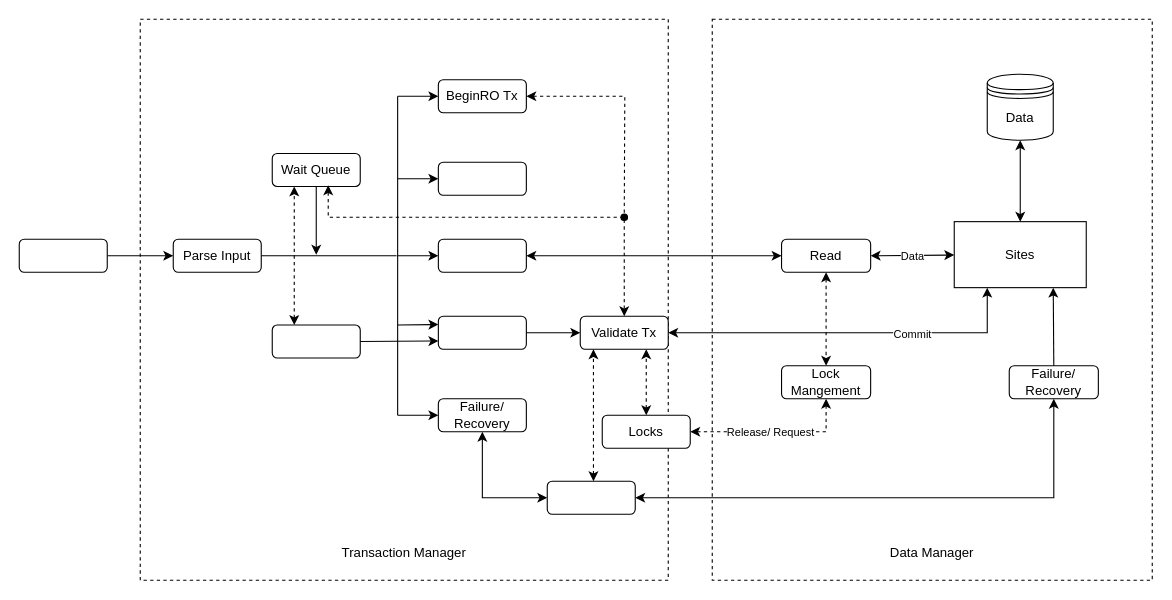
Some shapes in this 1172 by 600 pixel diagram are drawn without their labels. Here are the shapes that lost their labels. From the top down, the centre of each, then its label:
At (x=481, y=178): "Begin Tx".
At (x=62, y=255): "Input".
At (x=481, y=255): "Read/ Write".
At (x=315, y=341): "Deadlocks".
At (x=481, y=332): "Commit/ Abort".
At (x=590, y=497): "Up Sites".
